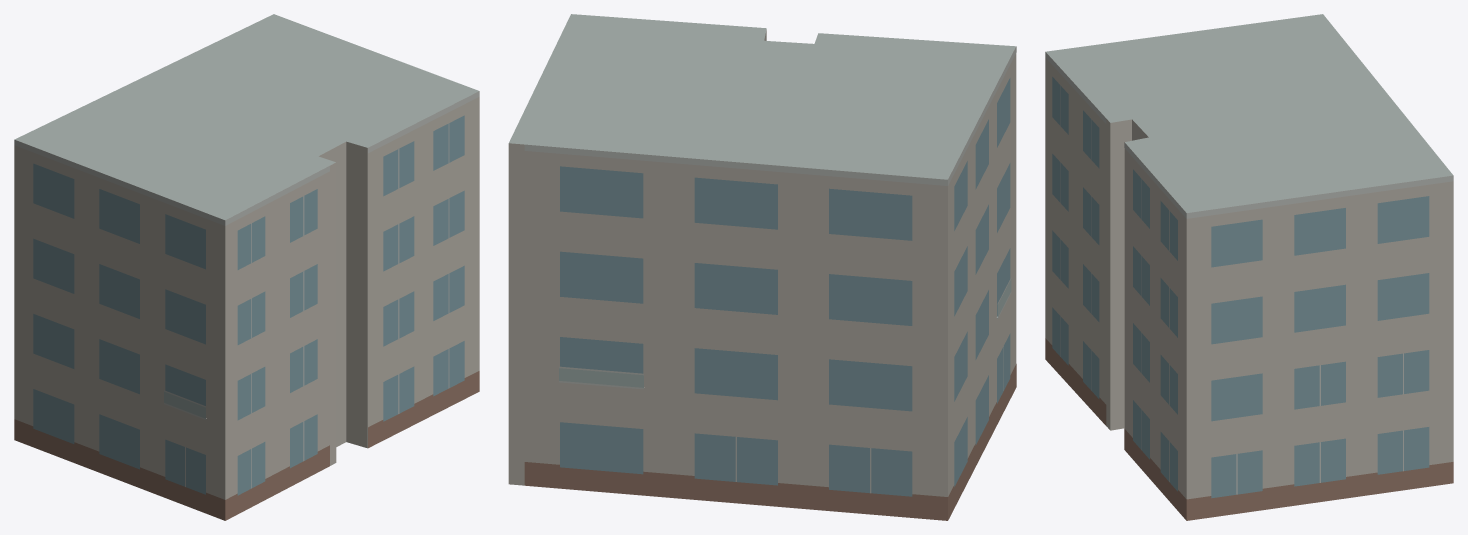
Rendered from survey-upis-32748268.glb.
The picture shows the model from 3 angles, left to right: view 1: azimuth 30°, elevation 25°; view 2: azimuth 150°, elevation 25°; view 3: azimuth 270°, elevation 25°; orthographic projection. The views are drawn at different scales.
Visible parts, largest first — view 1: survey-upis-32748268.tmp; view 2: survey-upis-32748268.tmp; view 3: survey-upis-32748268.tmp.
Part boxes in pixels (box(x1,y1,x2,y2)): survey-upis-32748268.tmp: box(14, 14, 479, 520); survey-upis-32748268.tmp: box(508, 14, 1016, 520); survey-upis-32748268.tmp: box(1045, 14, 1453, 520).
Bounding box in the file's own units: 18.19 × 13.1 × 15.76.
